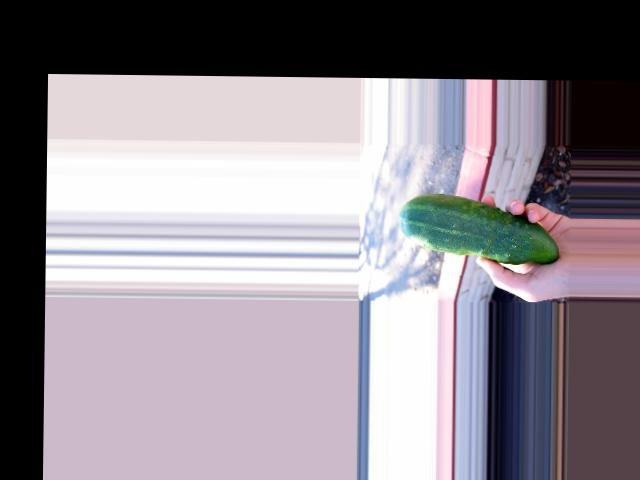cucumber: (399, 192, 559, 264)
